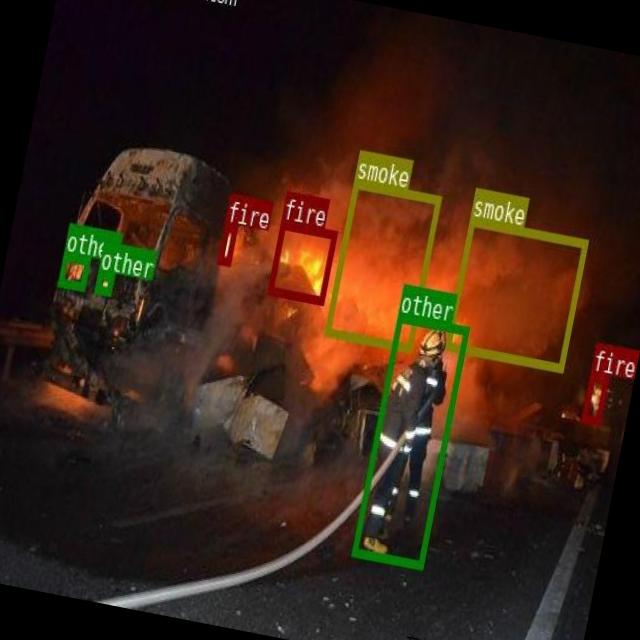fire: (268, 220, 336, 303), (582, 371, 608, 423), (218, 222, 236, 264)
smoke: (444, 217, 587, 371), (323, 178, 440, 352)
